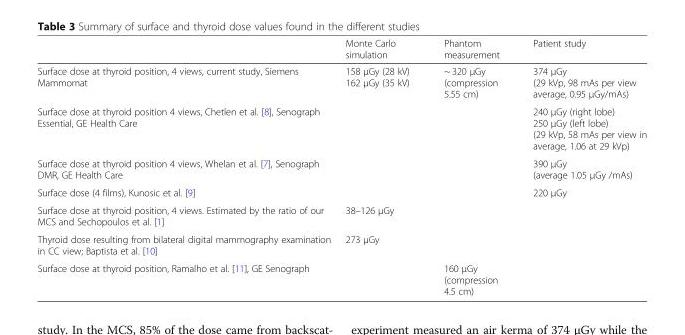table: (36, 37, 646, 296)
table column: (36, 37, 337, 296), (515, 37, 646, 296), (425, 37, 515, 296), (337, 37, 425, 296)
table column header: (36, 37, 646, 61)
table row: (36, 101, 646, 153), (36, 61, 646, 101), (36, 258, 646, 296), (36, 153, 646, 182), (36, 200, 646, 229), (36, 229, 646, 258), (36, 37, 646, 61), (36, 182, 646, 200)
